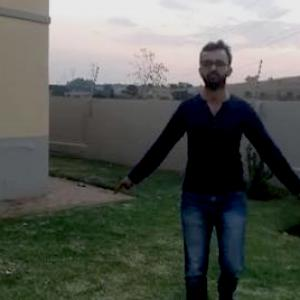land: (121, 40, 299, 292)
